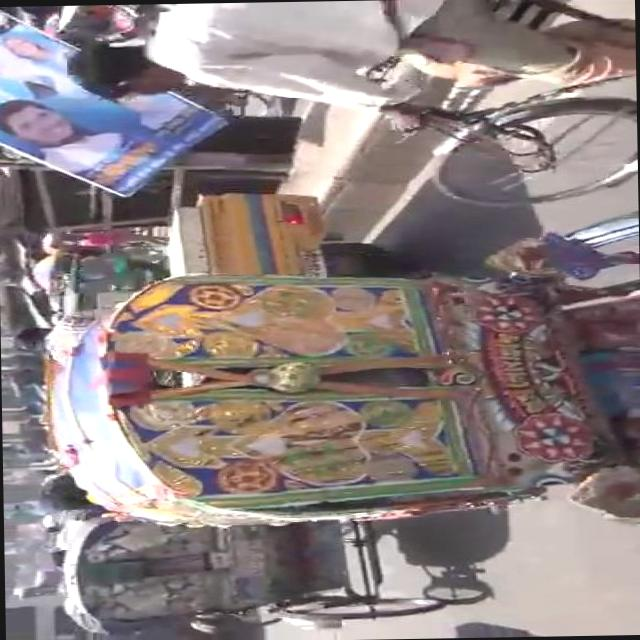bus: (4, 591, 85, 640)
motorcycle: (28, 207, 640, 546), (60, 0, 631, 213), (51, 508, 454, 636), (52, 252, 169, 314)
truck: (157, 190, 426, 277)
